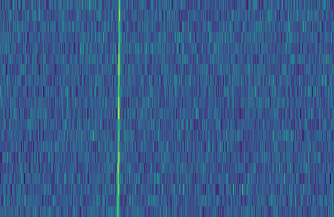signal: (111, 0, 122, 217)
